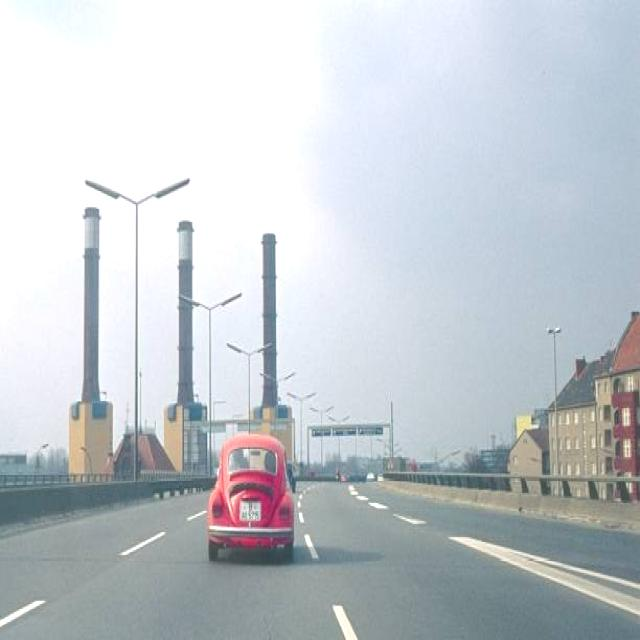car: (211, 431, 294, 555)
